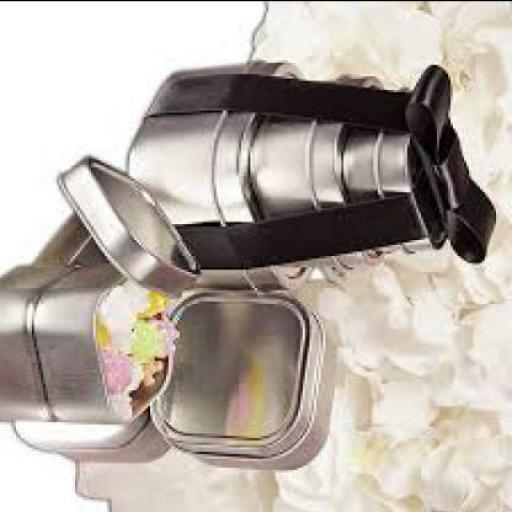biodegradable: (102, 284, 177, 408)
metal: (125, 60, 312, 288), (150, 289, 340, 464), (252, 72, 389, 266), (32, 262, 172, 422), (50, 155, 202, 298), (344, 86, 452, 255)
